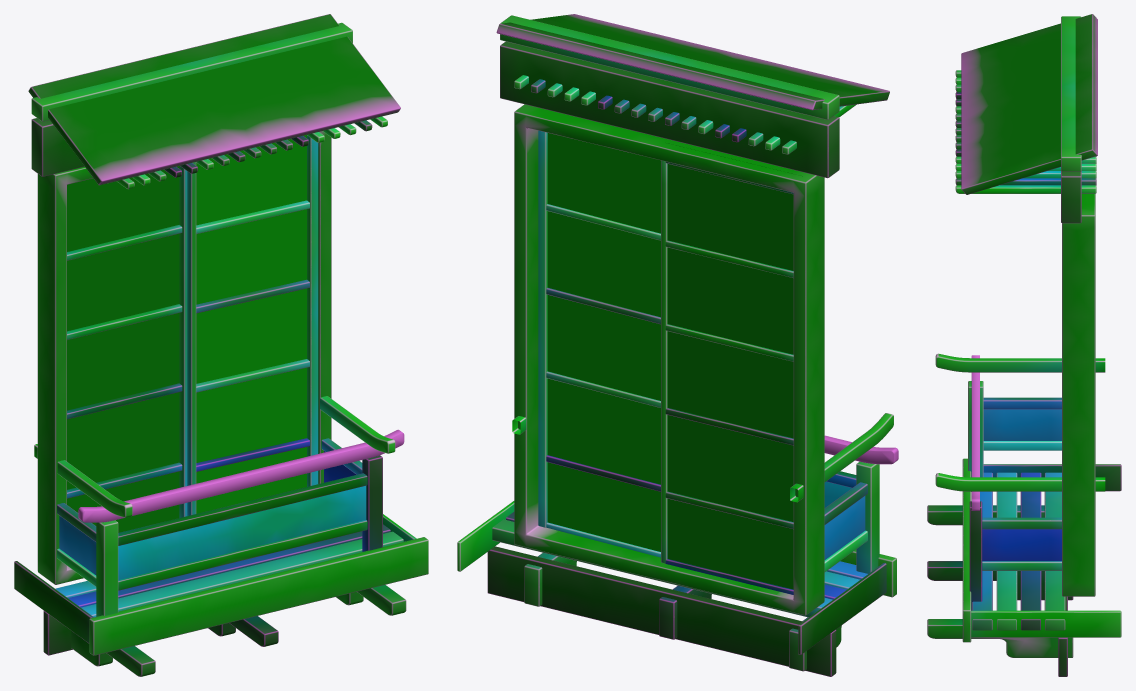
The model's file is window_400x350_05.fbx.
3 renders of one model, left to right at view 1: azimuth 30°, elevation 25°; view 2: azimuth 150°, elevation 25°; view 3: azimuth 270°, elevation 25°, orthographic. The views are drawn at different scales.
Parts seen in each view (by area): view 1: window_400x350_05; view 2: window_400x350_05; view 3: window_400x350_05.
Part boxes in pixels (box(x1,y1,x2,y2)): window_400x350_05: box(14, 14, 428, 676); window_400x350_05: box(457, 14, 898, 676); window_400x350_05: box(927, 14, 1121, 676).
Size of the model in its own units: 1.48 by 2.3 by 0.7846.
